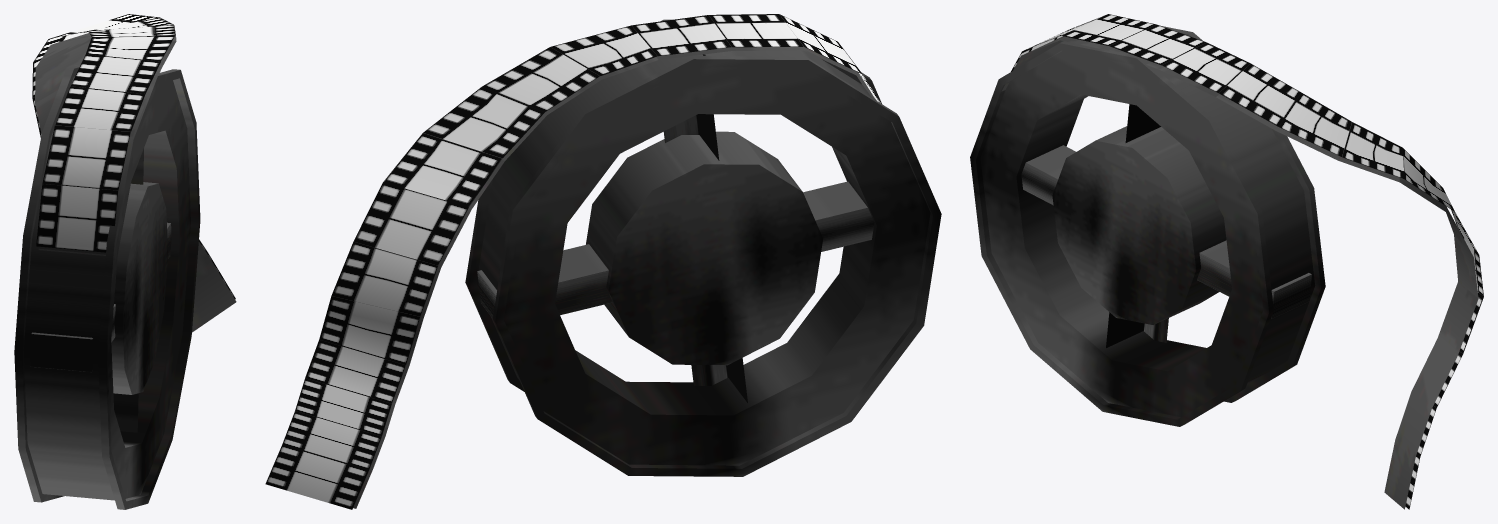
Rendered from ic_vtr.ico.obj.
3 renders of one model, left to right at view 1: azimuth 30°, elevation 25°; view 2: azimuth 150°, elevation 25°; view 3: azimuth 270°, elevation 25°, orthographic. The views are drawn at different scales.
Bounding box in the file's own units: 4.26 × 3.83 × 4.85.
1 material, 1 textured.
